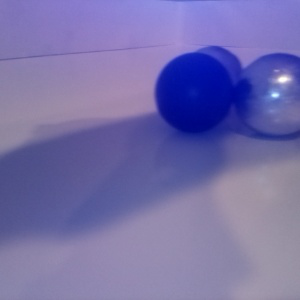alive_ball: (234, 52, 300, 136), (186, 44, 244, 110)
dead_ball: (154, 51, 233, 134)
